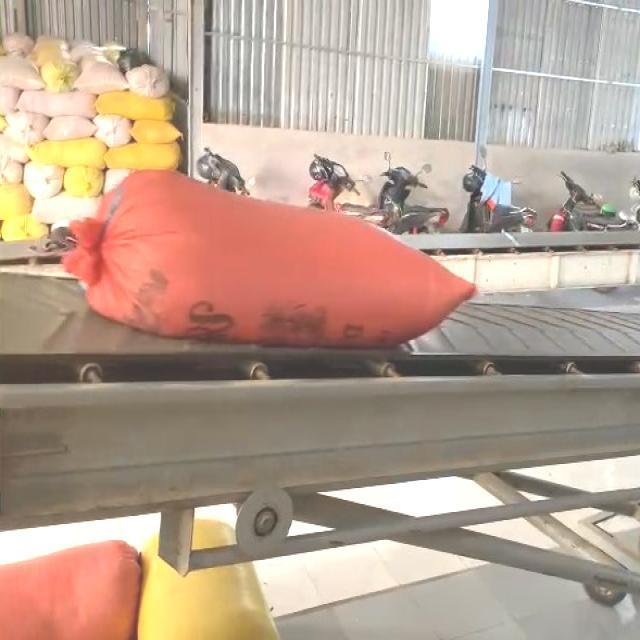gunny_bag: (63, 171, 475, 347)
